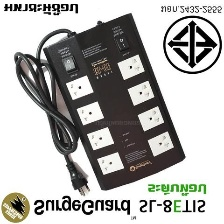three_eye_plug: (41, 10, 188, 194)
